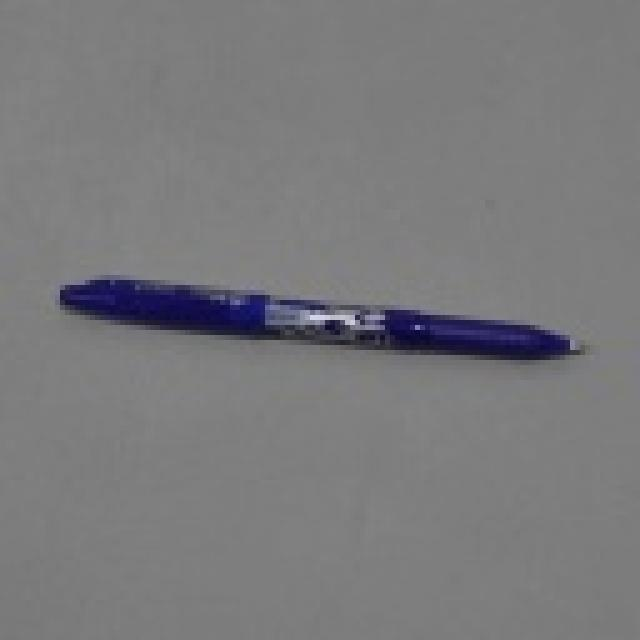pen: (51, 268, 595, 374)
